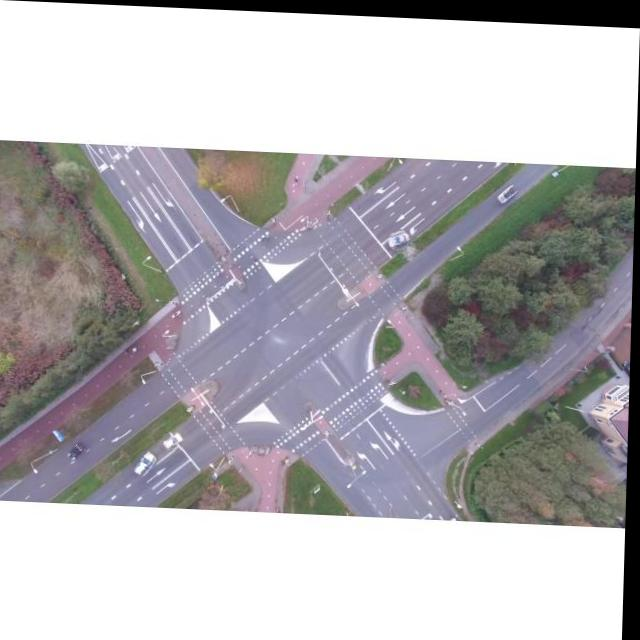vehicle: (134, 449, 161, 476), (388, 224, 412, 250), (497, 178, 519, 202), (69, 441, 90, 461), (166, 430, 186, 449)
